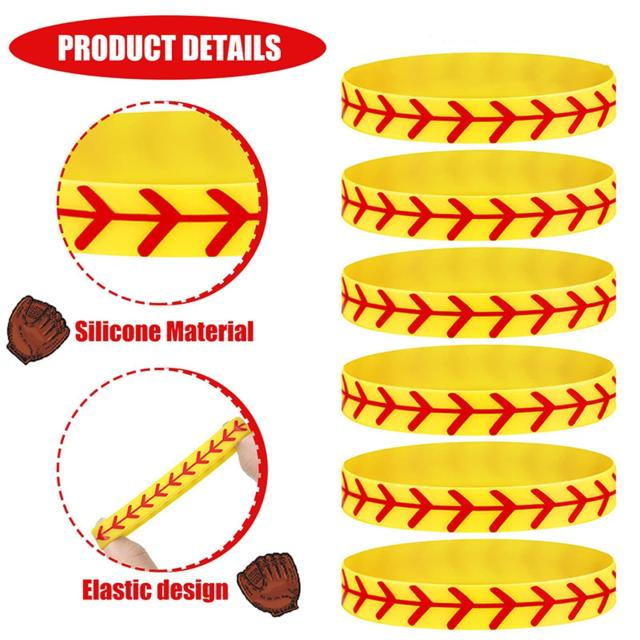bracelet: (287, 18, 640, 640)
